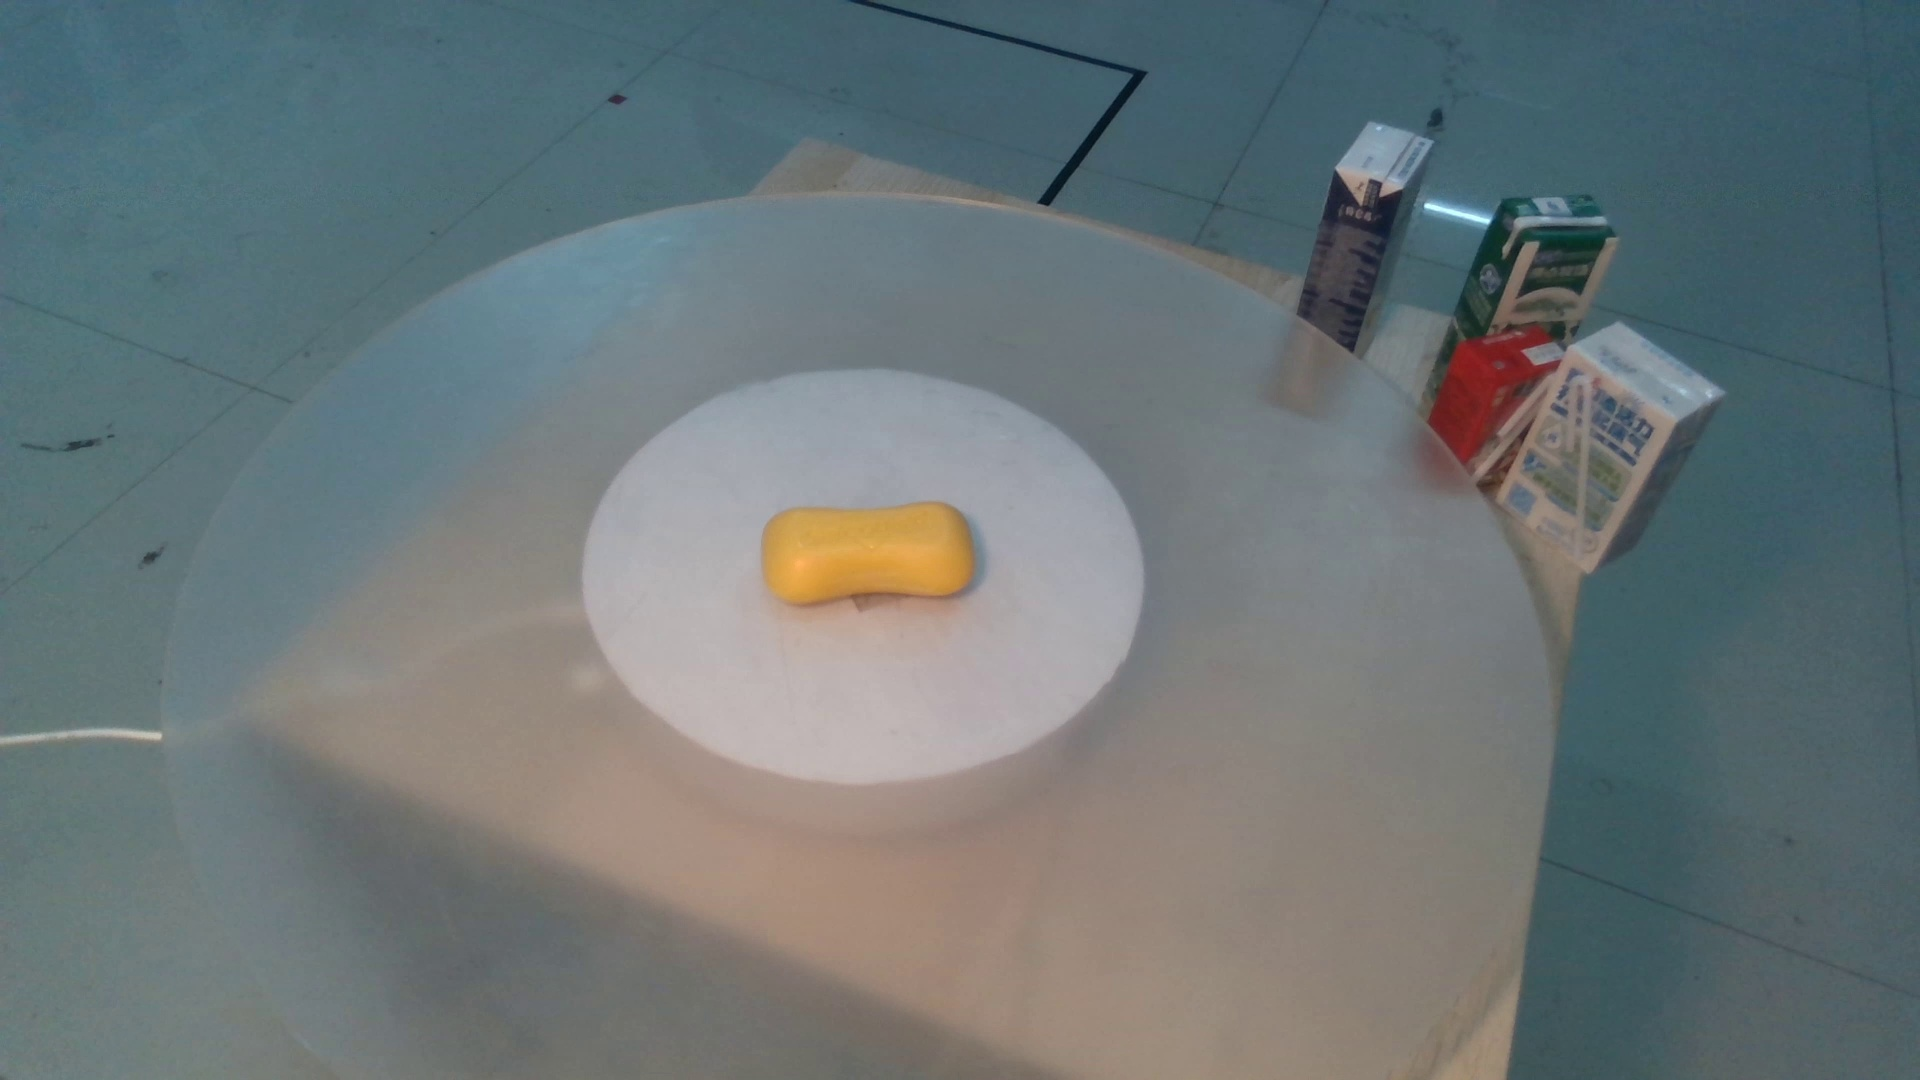CA003_1: (752, 483, 1002, 638)
